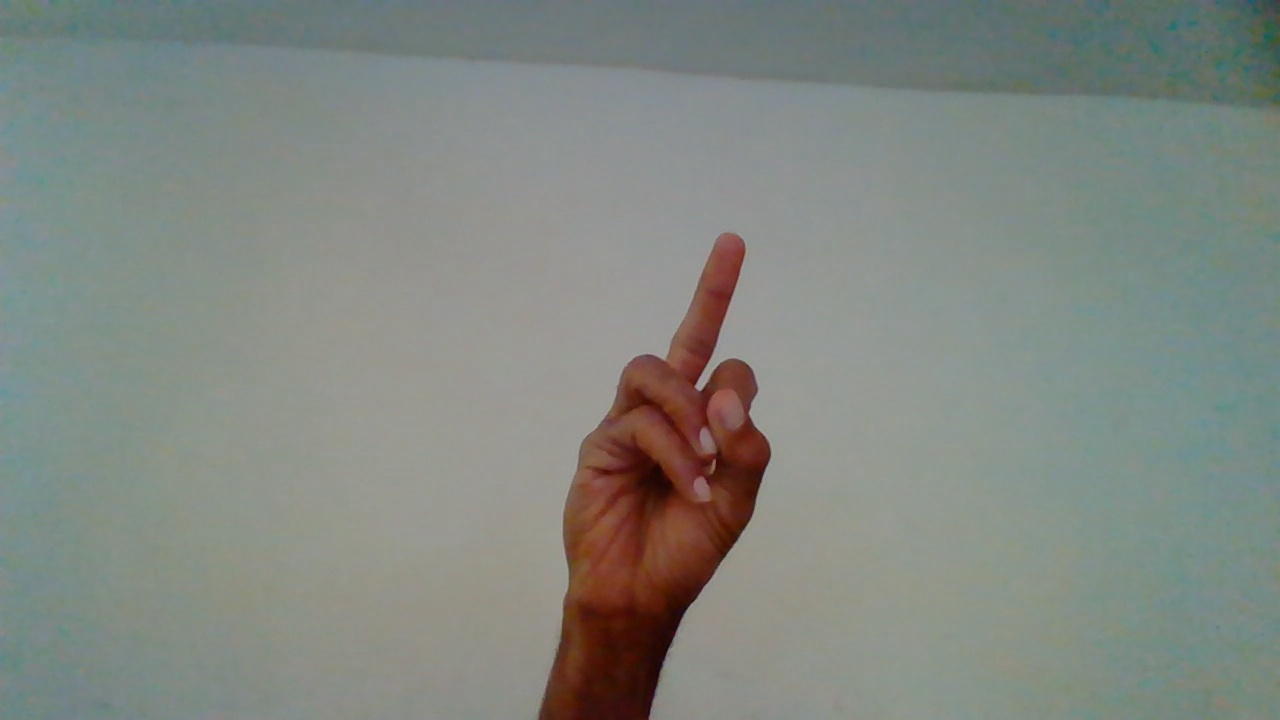he: (560, 224, 772, 700)
